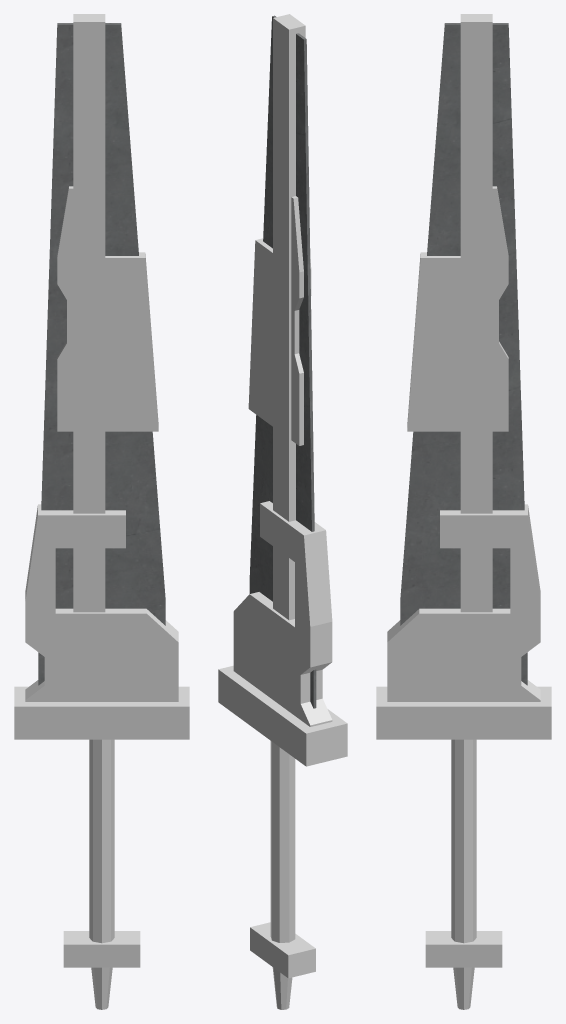
The model's file is BigSword.fbx.
The picture shows the model from 3 angles, left to right: view 1: azimuth 90°, elevation 25°; view 2: azimuth 210°, elevation 25°; view 3: azimuth 270°, elevation 25°; orthographic projection.
Parts seen in each view (by area): view 1: Blade, VerticalCasing, BaseCasing, UpperCasing, HandleTop, Handle, HandleBase; view 2: BaseCasing, VerticalCasing, Blade, UpperCasing, Handle, HandleTop, HandleBase; view 3: Blade, VerticalCasing, BaseCasing, UpperCasing, HandleTop, Handle, HandleBase.
Part boxes in pixels (x1=…): Blade: x1=38, y1=23, x2=165, y2=685; VerticalCasing: x1=73, y1=14, x2=105, y2=612; BaseCasing: x1=25, y1=504, x2=178, y2=701; UpperCasing: x1=57, y1=186, x2=158, y2=431; HandleTop: x1=14, y1=686, x2=189, y2=739; Handle: x1=89, y1=739, x2=114, y2=1009; HandleBase: x1=63, y1=931, x2=140, y2=967; BaseCasing: x1=233, y1=501, x2=332, y2=726; VerticalCasing: x1=273, y1=14, x2=305, y2=620; Blade: x1=249, y1=15, x2=316, y2=708; UpperCasing: x1=248, y1=196, x2=311, y2=445; Handle: x1=270, y1=741, x2=295, y2=1009; HandleTop: x1=218, y1=665, x2=347, y2=766; HandleBase: x1=250, y1=922, x2=315, y2=978; Blade: x1=400, y1=23, x2=527, y2=685; VerticalCasing: x1=460, y1=14, x2=492, y2=612; BaseCasing: x1=387, y1=504, x2=540, y2=701; UpperCasing: x1=407, y1=186, x2=508, y2=431; HandleTop: x1=376, y1=686, x2=551, y2=739; Handle: x1=451, y1=739, x2=476, y2=1009; HandleBase: x1=425, y1=931, x2=502, y2=967.
Bounding box in the file's own units: 0.075 × 1.71 × 0.275.
4 materials, 1 textured.
